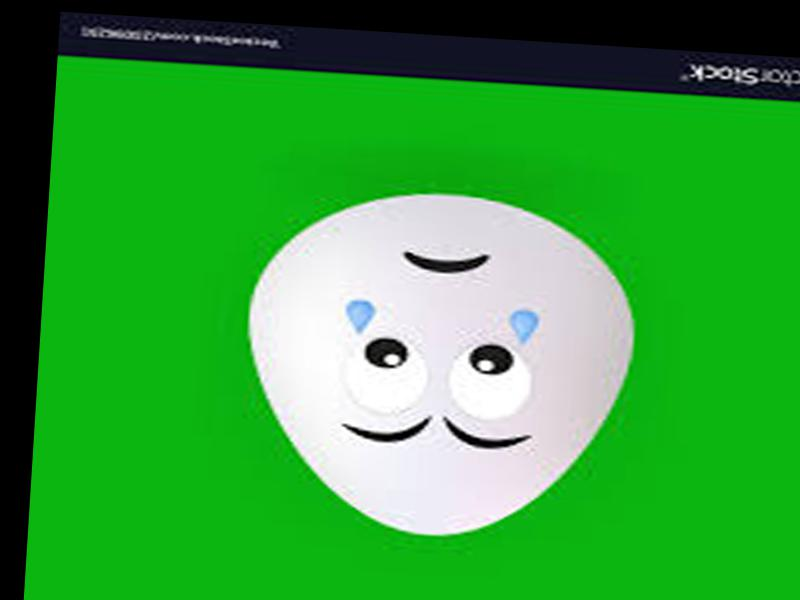Eggs: (239, 183, 645, 544)
